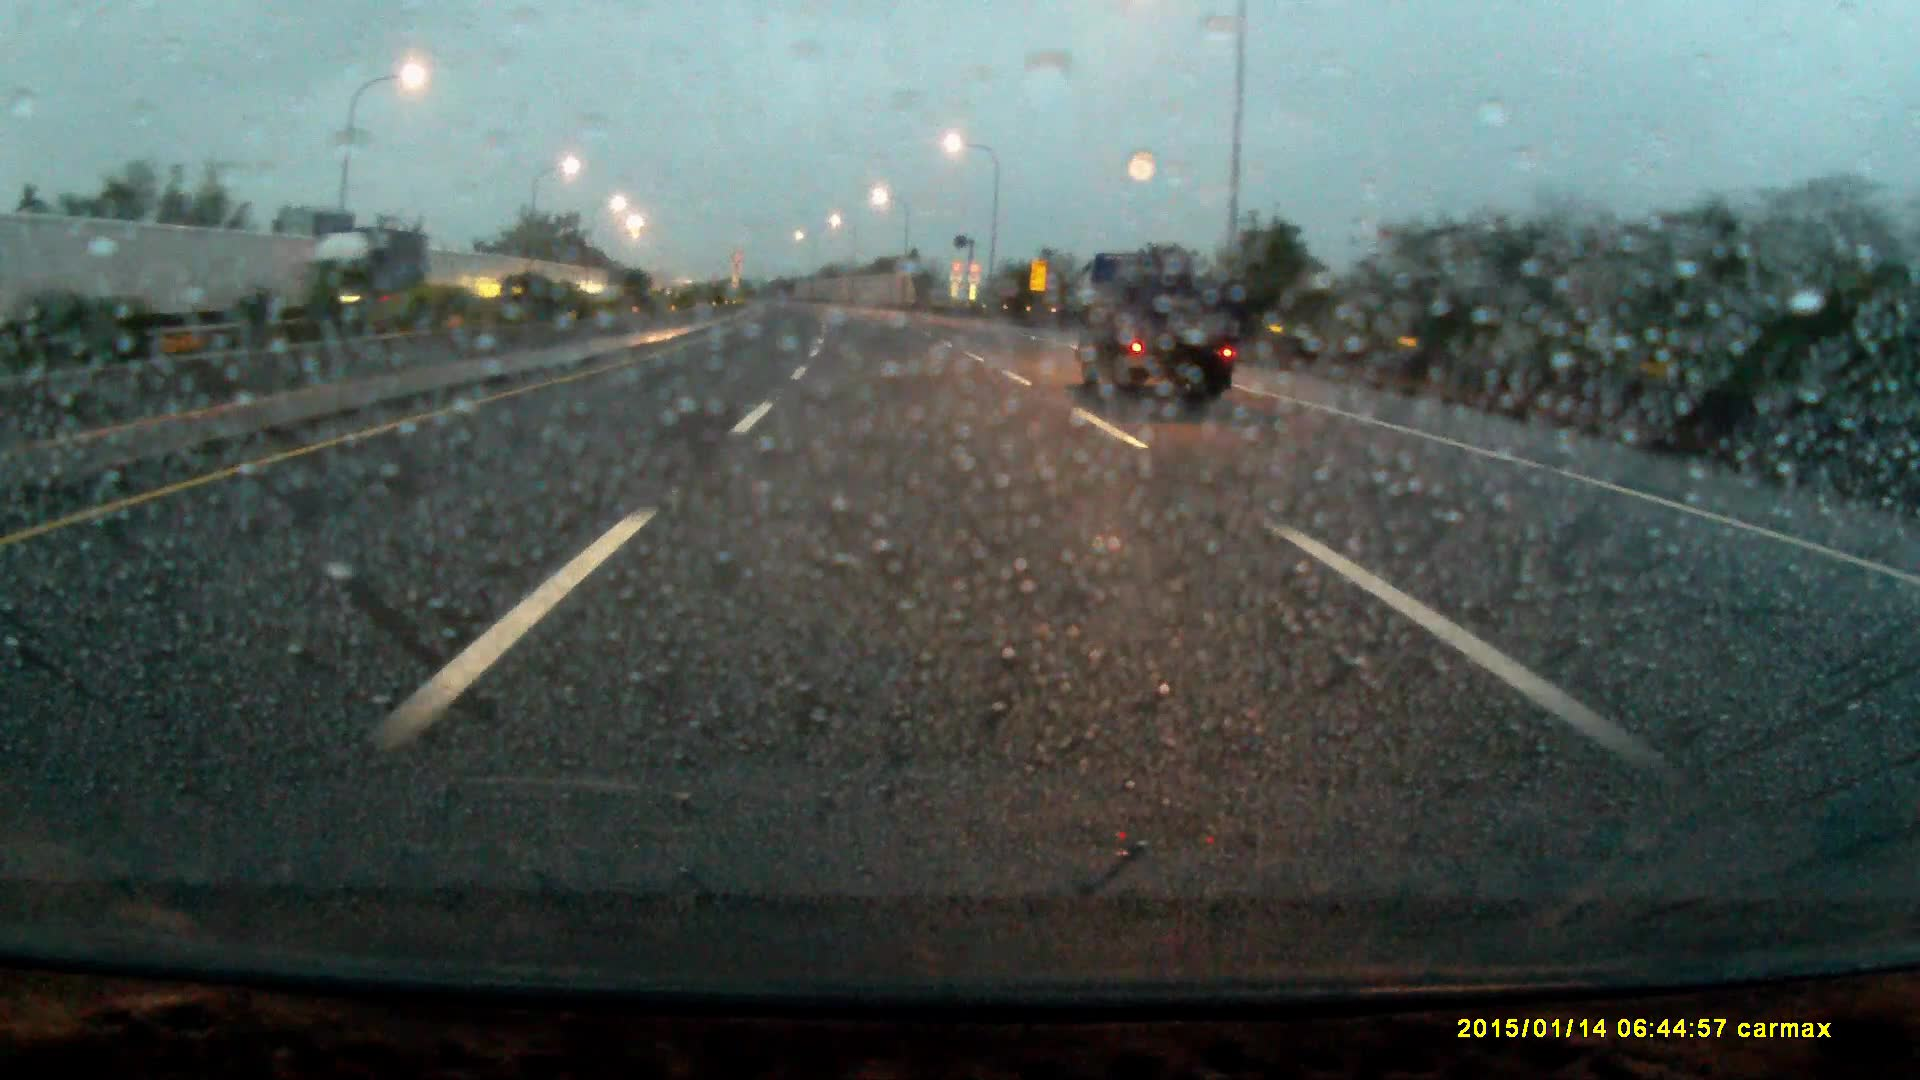vehicle: (1069, 248, 1232, 405), (293, 225, 423, 335)
